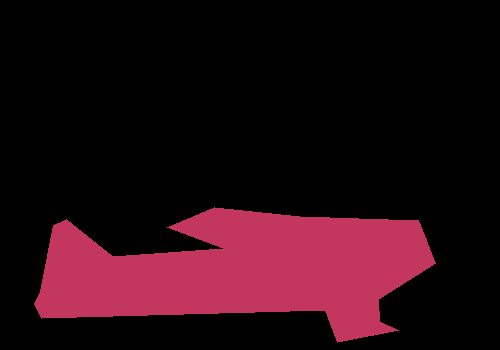Airplane: (34, 207, 436, 342)
